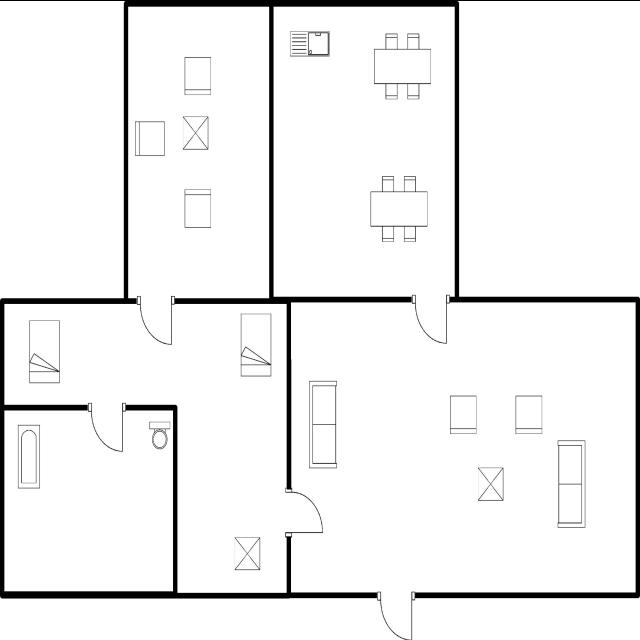bed: (26, 314, 64, 388), (238, 310, 276, 380)
coffee_table: (228, 530, 266, 576), (474, 460, 508, 506), (180, 110, 212, 154)
dining_table: (364, 172, 430, 250), (370, 28, 436, 106)
large_sink: (145, 416, 171, 454)
large_sofa: (304, 373, 342, 472), (554, 434, 590, 532)
sink: (285, 23, 334, 63)
small_sofa: (444, 384, 480, 438), (130, 115, 170, 163), (512, 389, 547, 439), (180, 183, 215, 233), (180, 51, 215, 101)
tub: (12, 420, 46, 495)
